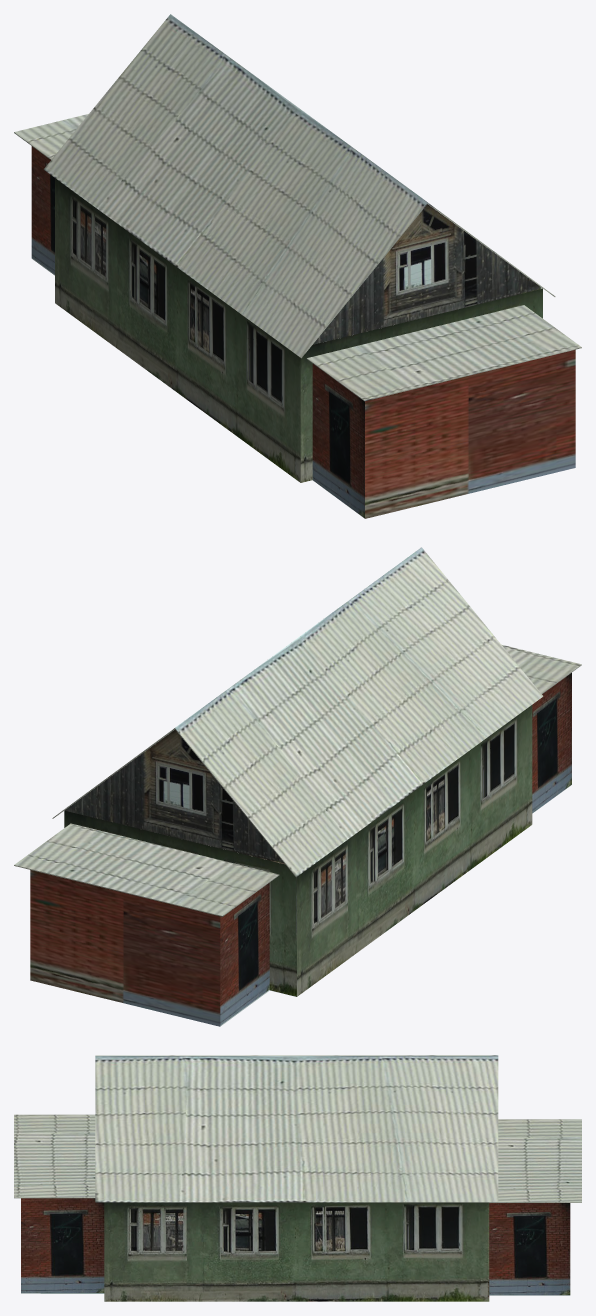
The model's file is r402_dom_bekishevo.FBX.
3 views of the same model, one above another, from view 1: azimuth 30°, elevation 25°; view 2: azimuth 150°, elevation 25°; view 3: azimuth 270°, elevation 25° (orthographic). The views are drawn at different scales.
Parts seen in each view (by area): view 1: r402_dom_bekishevo; view 2: r402_dom_bekishevo; view 3: r402_dom_bekishevo.
Part boxes in pixels (left/top/right/bottom): r402_dom_bekishevo: left=14, top=14, right=581, bottom=518; r402_dom_bekishevo: left=14, top=547, right=581, bottom=1026; r402_dom_bekishevo: left=14, top=1055, right=581, bottom=1301.
Size of the model in its own units: 631 by 1555 by 604.
